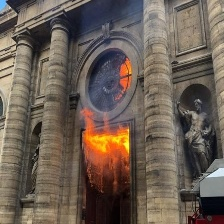fire: (77, 51, 141, 192)
